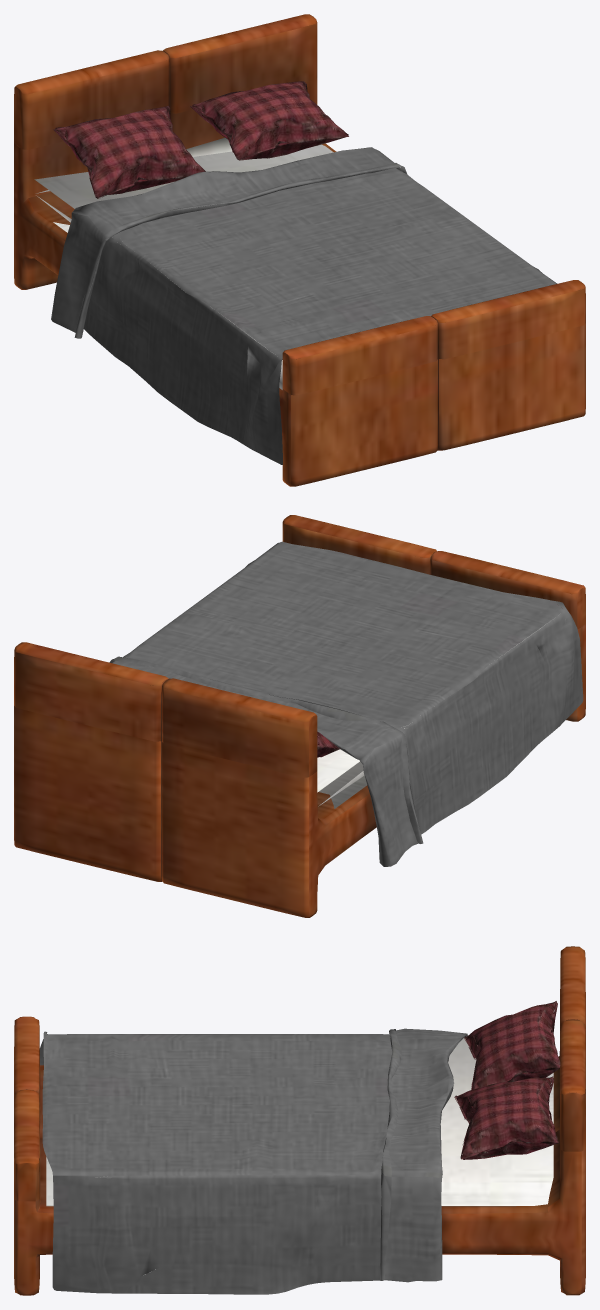
The model's file is bed-13.glb.
3 renders of one model, top to bottom at view 1: azimuth 30°, elevation 25°; view 2: azimuth 150°, elevation 25°; view 3: azimuth 270°, elevation 25°, orthographic.
Parts seen in each view (by area): view 1: Bed; view 2: Bed; view 3: Bed.
Boxes of the visible parts, x1,y1,x2,y2 form: Bed: (14,14,585,486); Bed: (14,515,585,917); Bed: (14,946,585,1295).
Bounding box in the file's own units: 12.05 × 6.81 × 17.31.
5 materials, 5 textured.
